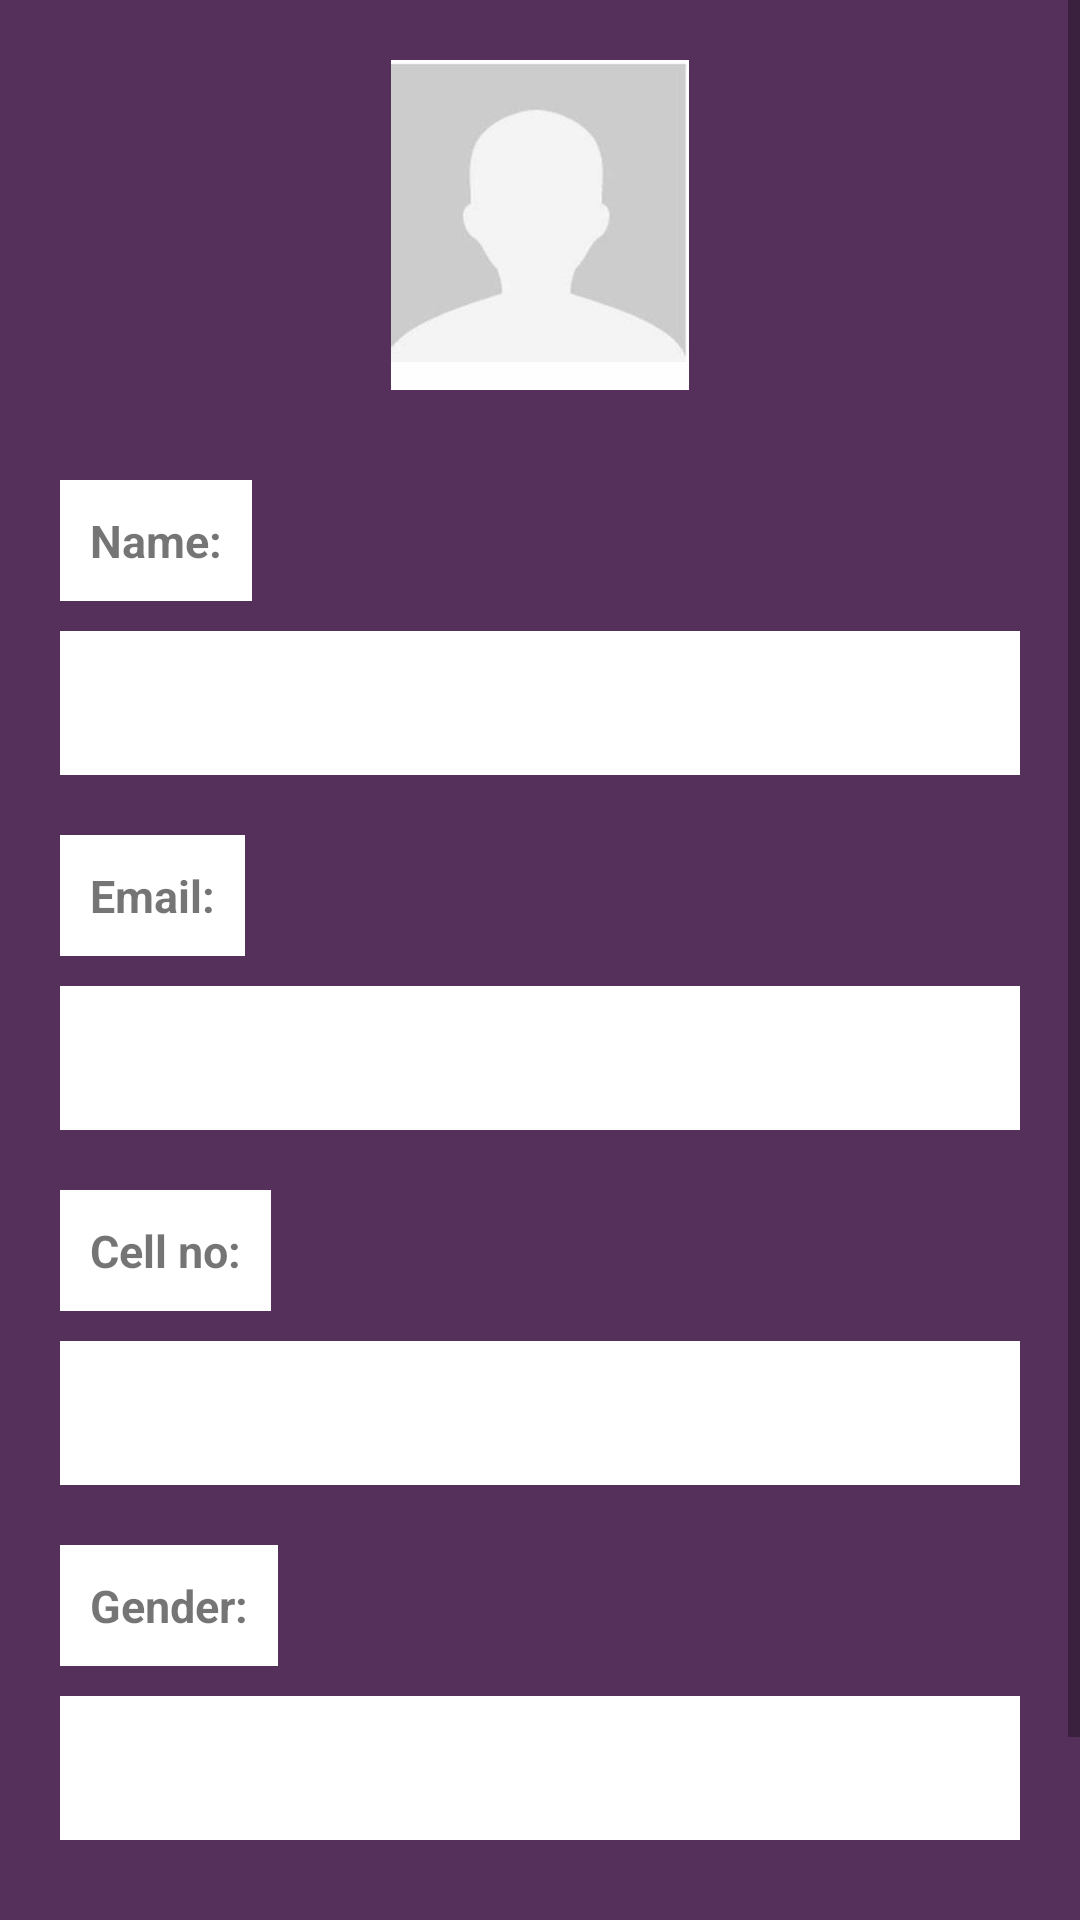

Icon bounding boxes for this 1080px×1920px phone screenshot, format bbox=[x1, y1, x2, y2]:
profile: bbox=[391, 60, 689, 390]
